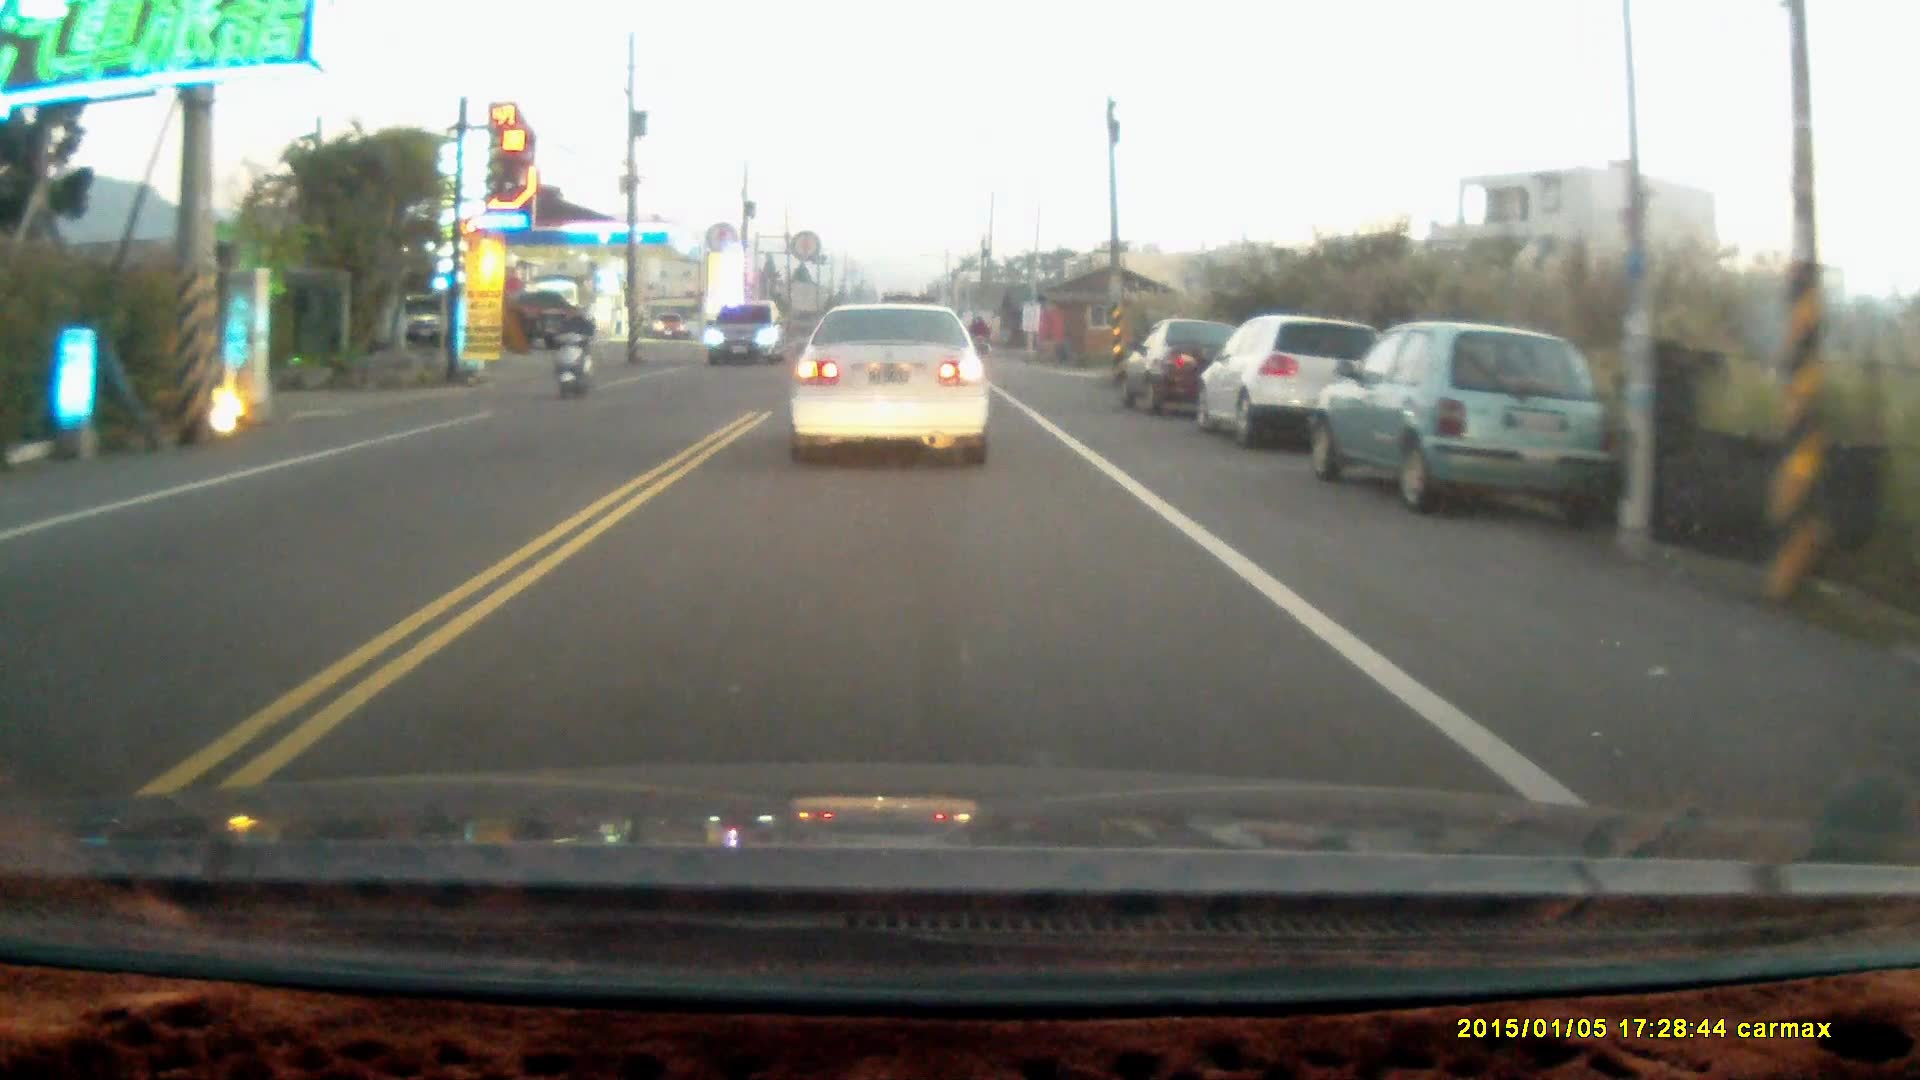rider: (548, 303, 592, 400)
vehicle: (1306, 322, 1624, 512), (789, 296, 996, 468), (1200, 314, 1382, 452), (1125, 314, 1243, 412), (707, 308, 789, 368)
